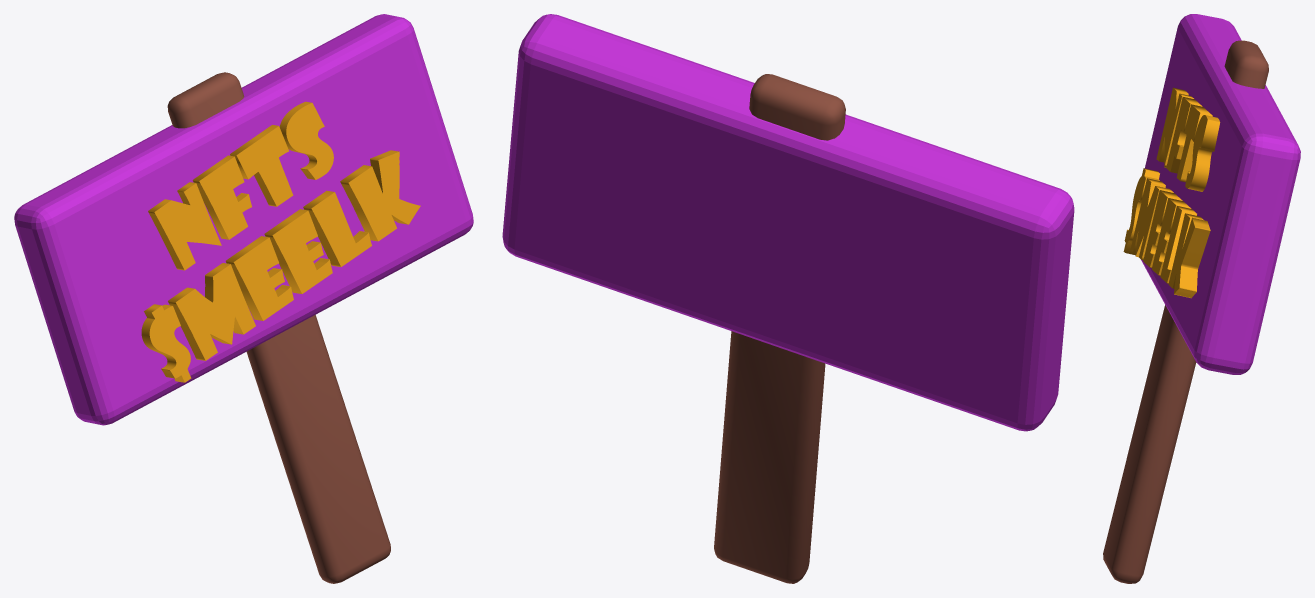
The model's file is menu_sign1.glb.
3 renders of one model, left to right at view 1: azimuth 30°, elevation 25°; view 2: azimuth 150°, elevation 25°; view 3: azimuth 270°, elevation 25°, orthographic. The views are drawn at different scales.
Parts seen in each view (by area): view 1: Sign.002, Text.002, Sign stick.002; view 2: Sign.002, Sign stick.002; view 3: Sign.002, Sign stick.002, Text.002.
Boxes of the visible parts, bbox=[...] form: Sign.002: bbox=[14, 14, 473, 425]; Text.002: bbox=[141, 101, 420, 382]; Sign stick.002: bbox=[167, 72, 390, 583]; Sign.002: bbox=[502, 14, 1074, 431]; Sign stick.002: bbox=[714, 74, 845, 583]; Sign.002: bbox=[1141, 14, 1300, 374]; Sign stick.002: bbox=[1103, 40, 1268, 583]; Text.002: bbox=[1123, 87, 1220, 298].
Bounding box in the file's own units: 1.51 × 1.55 × 0.5548.
